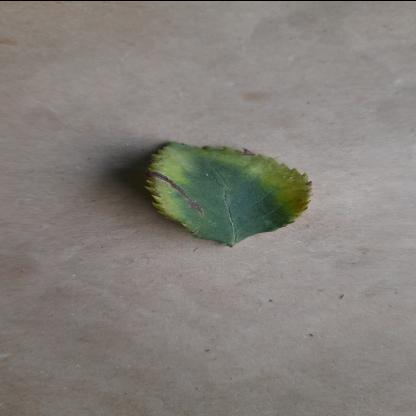black-spot: (138, 140, 314, 242)
